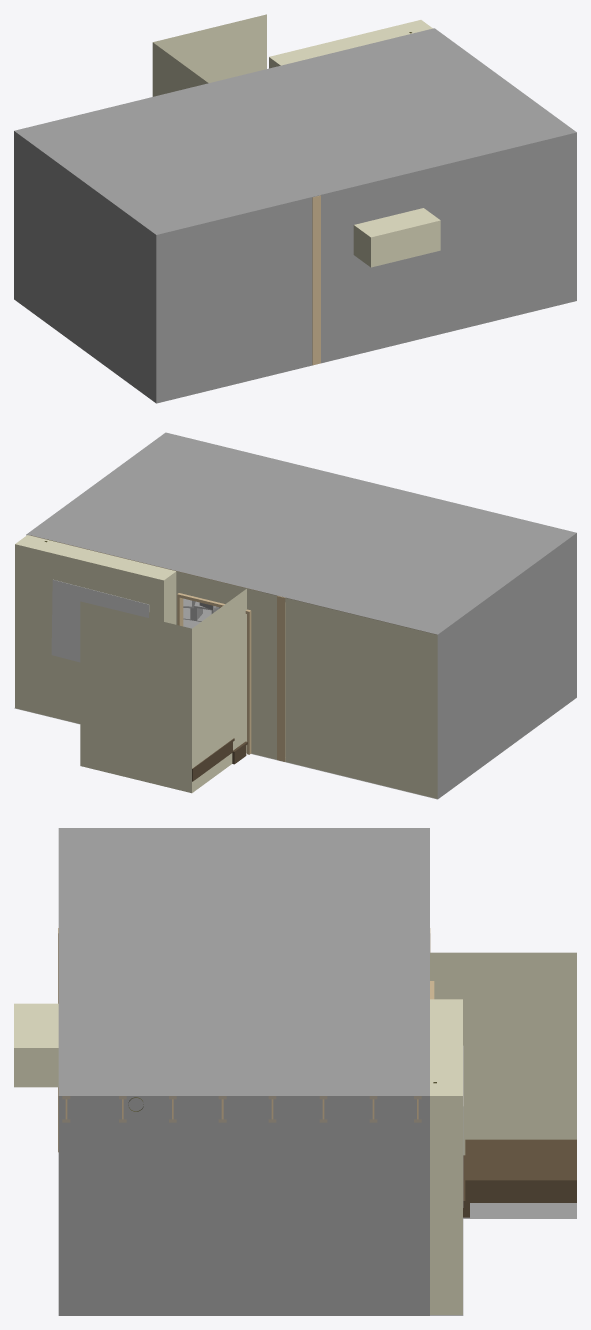
Rendered from basement draft 03.fbx.
3 views of the same model, one above another, from view 1: azimuth 30°, elevation 25°; view 2: azimuth 150°, elevation 25°; view 3: azimuth 270°, elevation 25° (orthographic). The views are drawn at different scales.
Parts seen in each view (by area): view 1: Floor___Walls_x3_geo, pCube64, door_wall_geo, vertical_beam_01_geo; view 2: Floor___Walls_x3_geo, door_wall_geo, bulletin_board_geo, vertical_beam_08_geo, door_frame_geo, Stair_2_geo, cinderblocks:polySurface1; view 3: Floor___Walls_x3_geo, door_wall_geo, pCube64, stair_4_geo, Stair_2_geo.
Part boxes in pixels (bbox=[...]): Floor___Walls_x3_geo: bbox=[14, 14, 576, 403]; pCube64: bbox=[353, 208, 440, 267]; door_wall_geo: bbox=[269, 20, 432, 68]; vertical_beam_01_geo: bbox=[312, 195, 320, 365]; Floor___Walls_x3_geo: bbox=[14, 432, 576, 799]; door_wall_geo: bbox=[15, 535, 437, 798]; bulletin_board_geo: bbox=[51, 579, 149, 662]; vertical_beam_08_geo: bbox=[277, 596, 285, 761]; door_frame_geo: bbox=[177, 593, 251, 754]; Stair_2_geo: bbox=[192, 738, 234, 781]; cinderblocks:polySurface1: bbox=[183, 598, 219, 621]; Floor___Walls_x3_geo: bbox=[58, 828, 576, 1315]; door_wall_geo: bbox=[430, 999, 462, 1314]; pCube64: bbox=[14, 1003, 58, 1087]; stair_4_geo: bbox=[465, 1165, 576, 1197]; Stair_2_geo: bbox=[465, 1139, 576, 1202].
Size of the model in its own units: 205 by 78.87 by 182.
